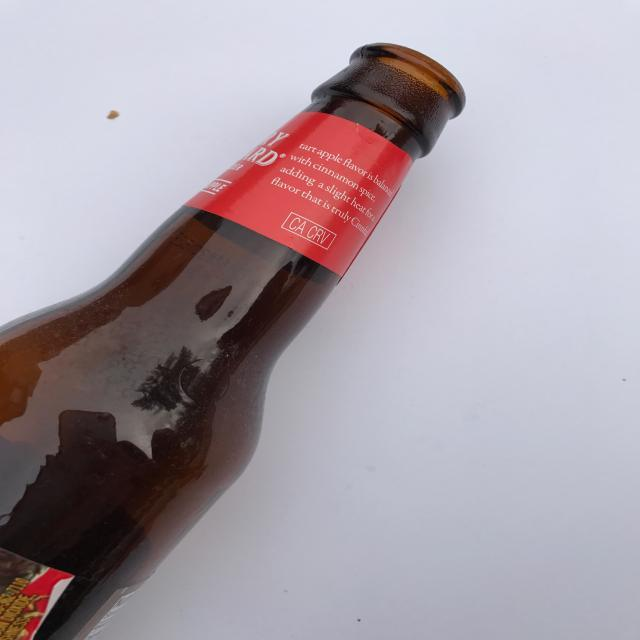glass: (11, 42, 467, 640)
